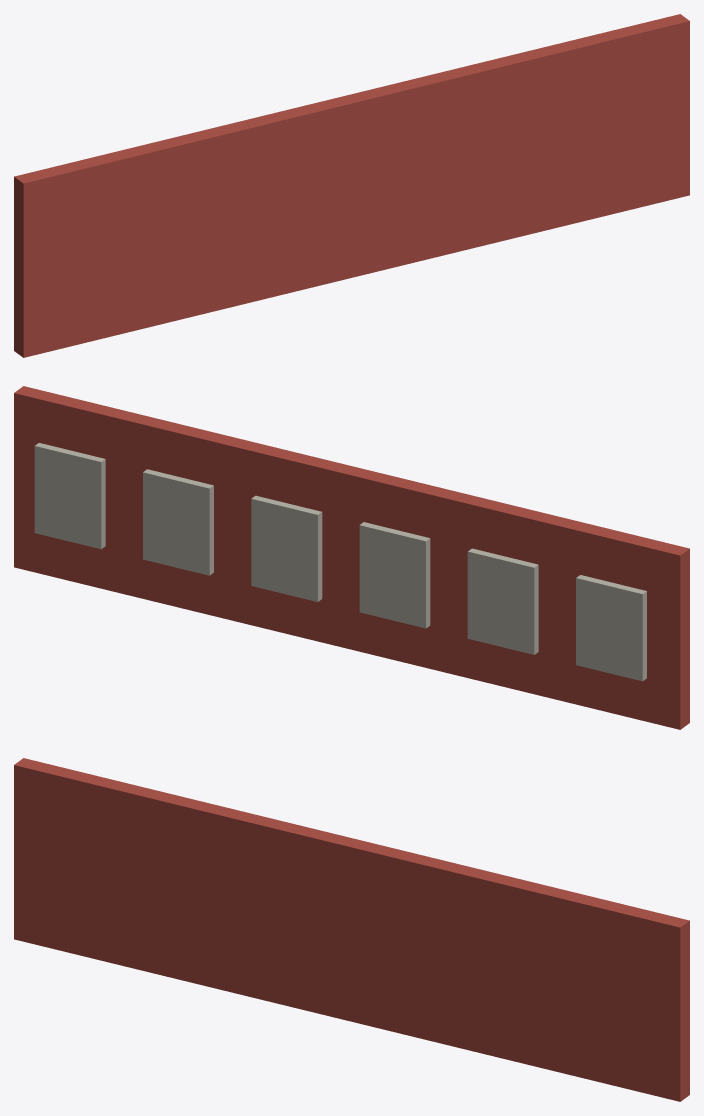
The model's file is p_slogan.glb.
3 renders of one model, top to bottom at view 1: azimuth 30°, elevation 25°; view 2: azimuth 150°, elevation 25°; view 3: azimuth 330°, elevation 25°, orthographic.
Visible parts, largest first — view 1: body; view 2: body; view 3: body.
Boxes of the visible parts, x1,y1,x2,y2 form: body: [14, 14, 689, 357]; body: [14, 386, 689, 729]; body: [14, 758, 689, 1101].
Bounding box in the file's own units: 4 × 1 × 0.145.
